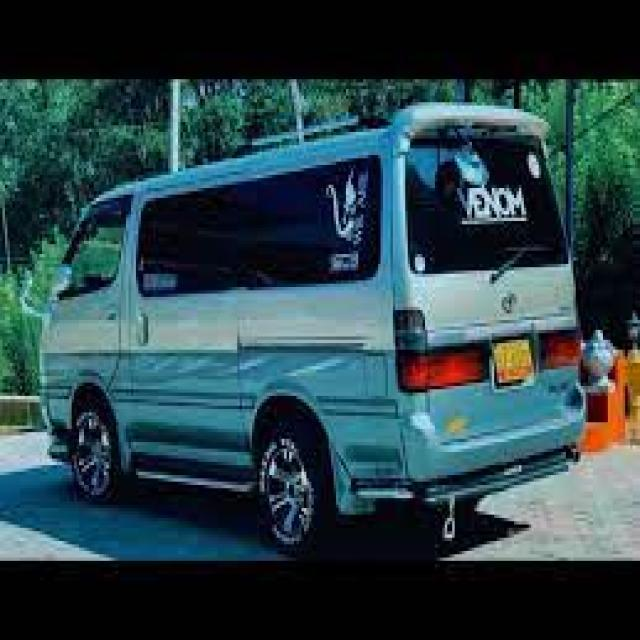van: (42, 102, 581, 551)
